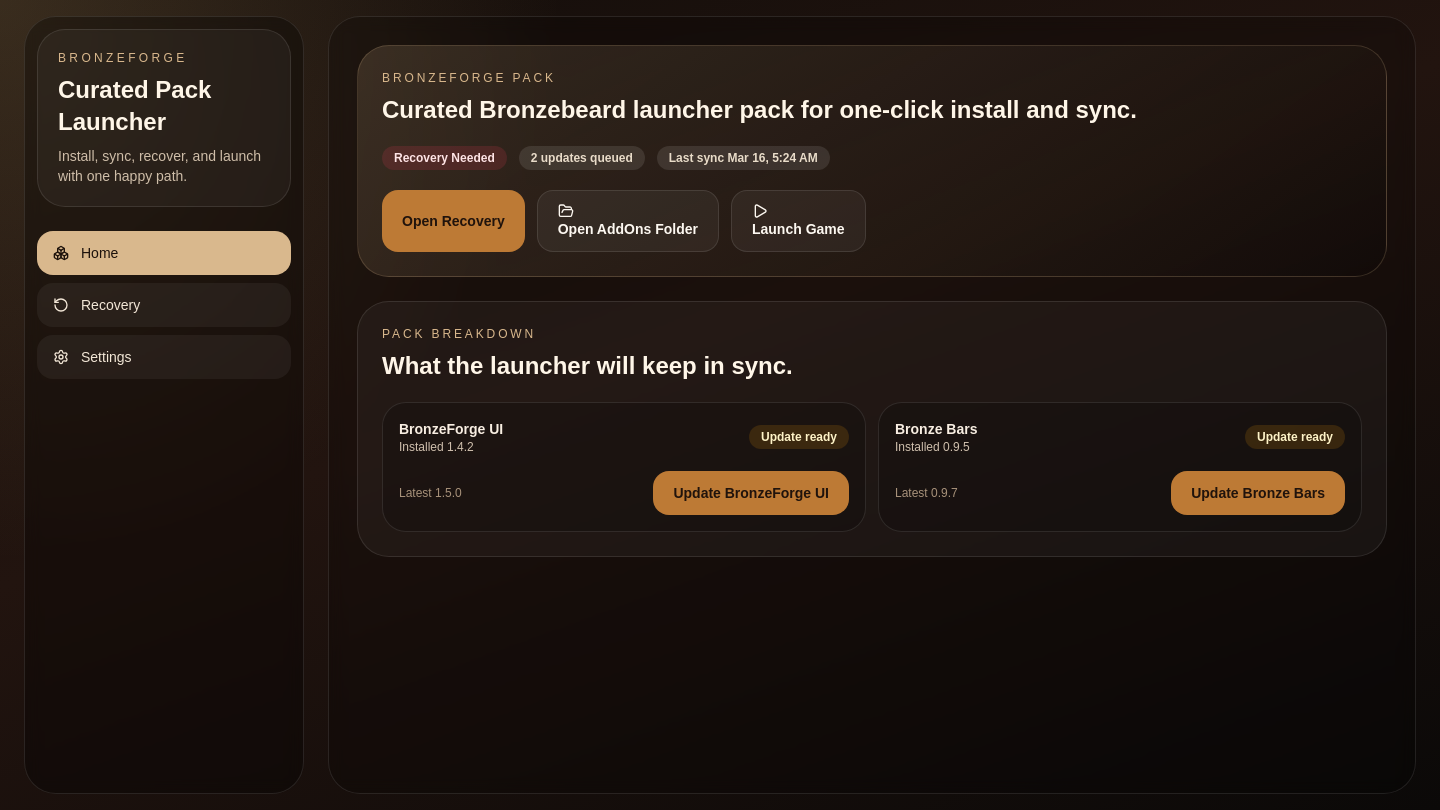
Scenario: preview restore flow shows items and applies on confirm
Navigate to recovery screen
Click the button "Recovery".
click(164, 305)  # box [37,283,291,327]
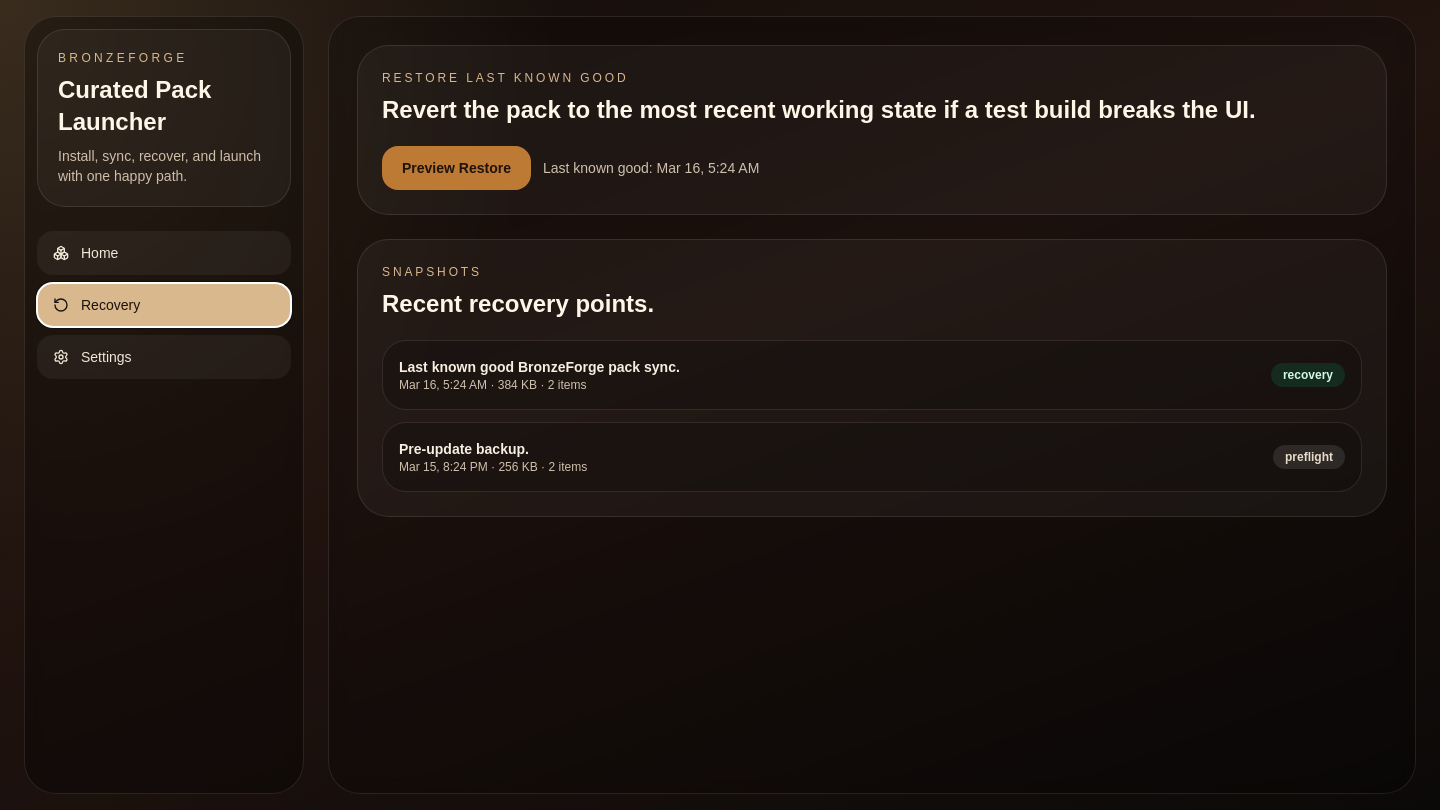
Trigger preview
Click the button "Preview Restore".
click(456, 168)  # box [382,146,531,190]
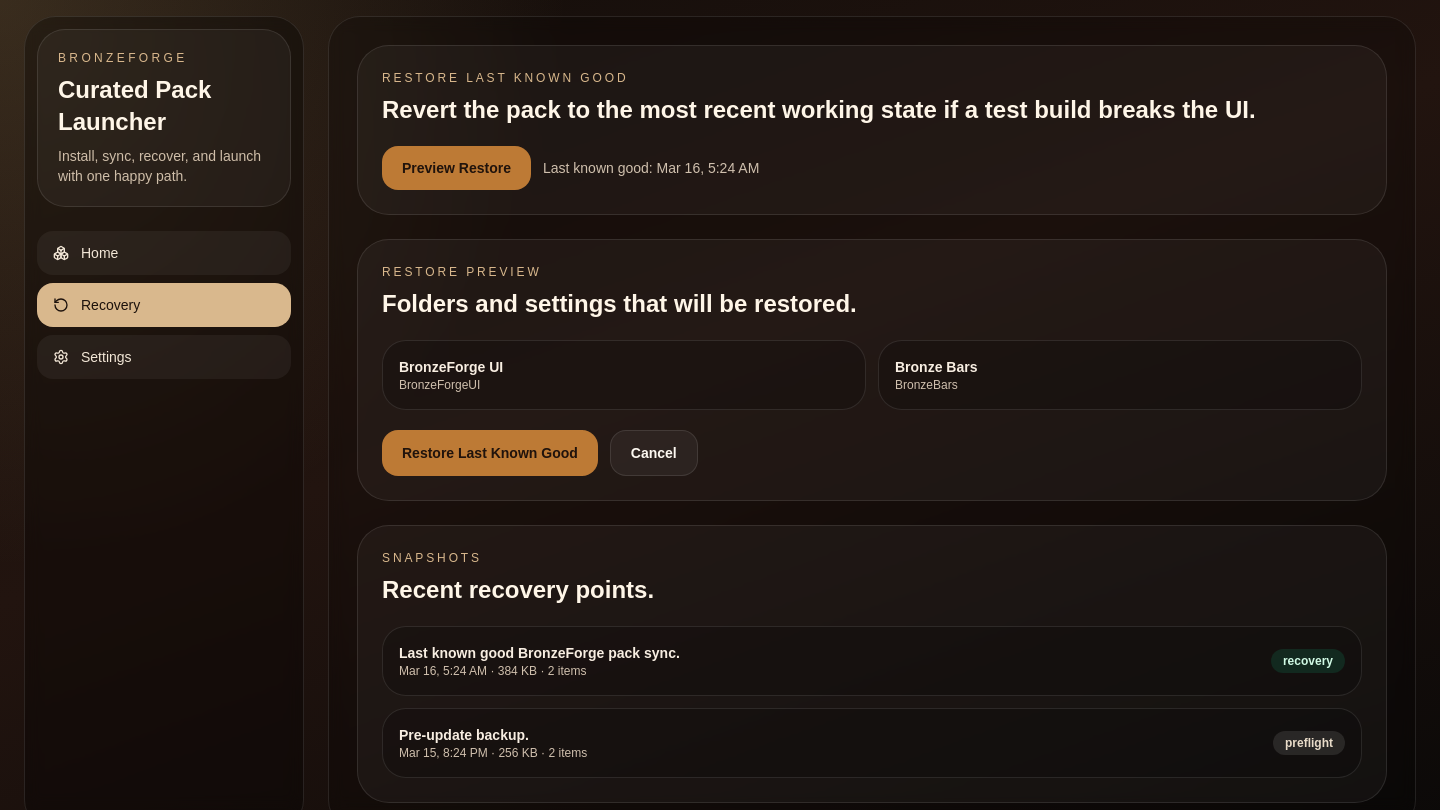
Now the text "Restore Preview" is shown, box [382,265,542,279]
Apply the restore
Click the button "Restore Last Known Good".
click(490, 453)  # box [382,430,598,476]
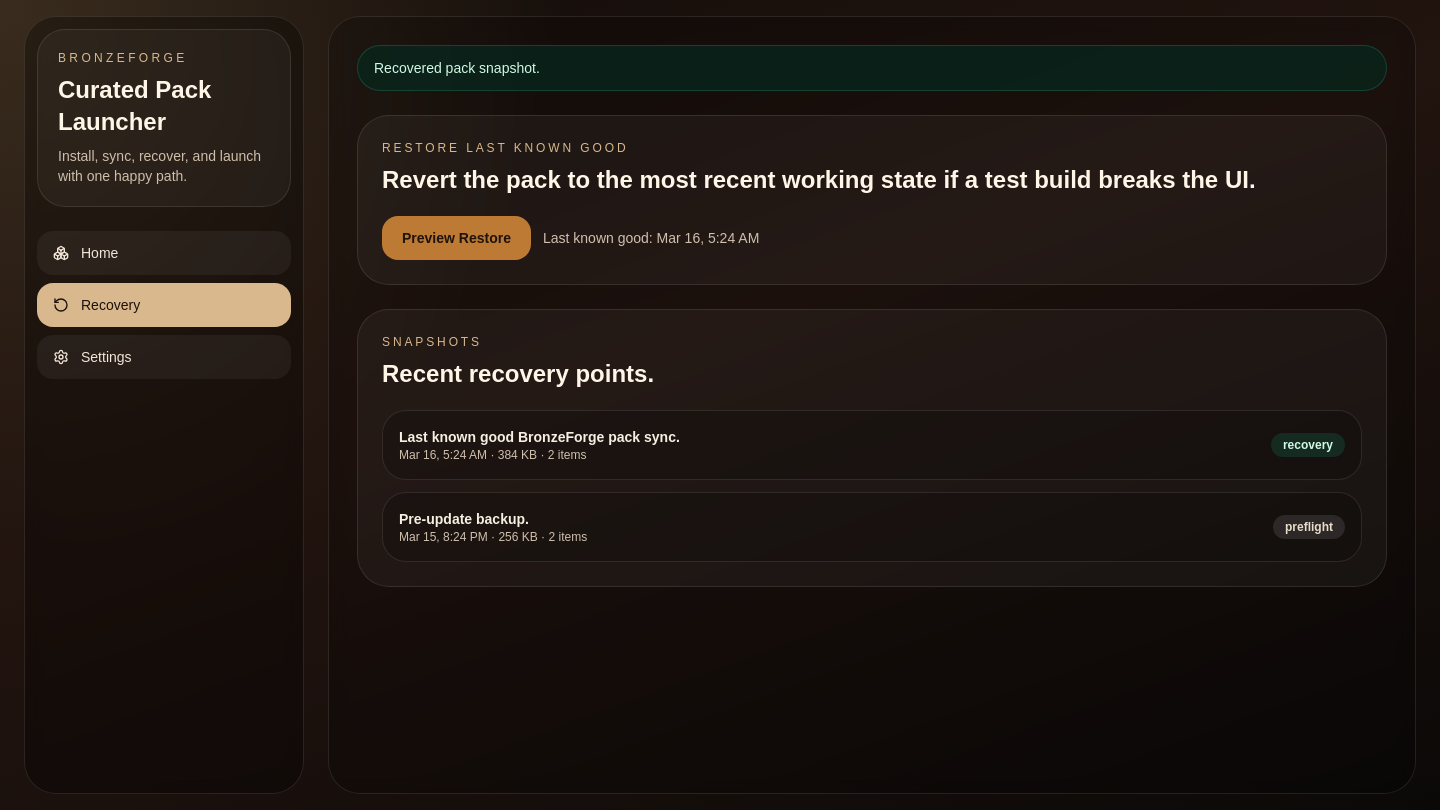
Now the text "Recovered pack snapshot." is shown, box [357,45,1387,91]
